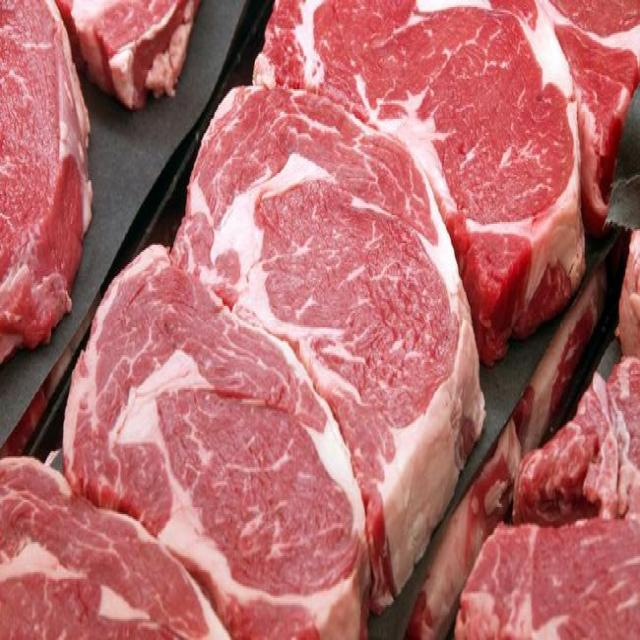beef: (161, 72, 484, 544), (46, 231, 365, 640), (260, 0, 588, 315), (1, 433, 237, 640), (0, 0, 102, 391), (418, 501, 640, 640), (506, 354, 640, 527), (608, 224, 640, 351)
